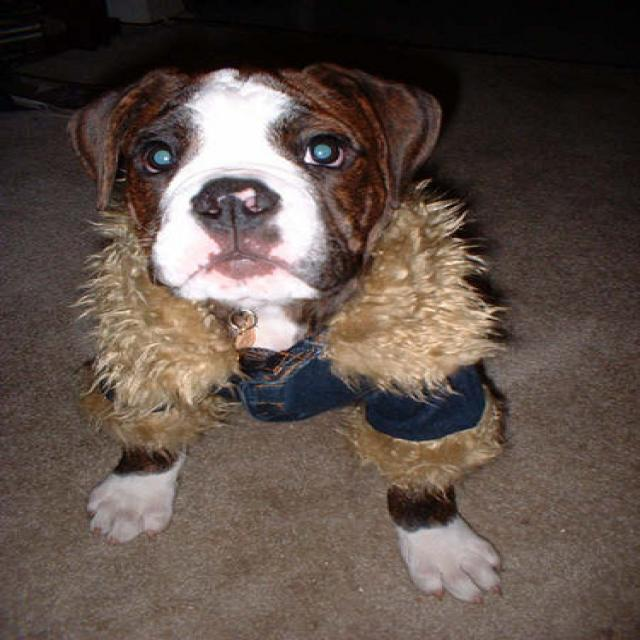dog: (66, 67, 506, 604)
